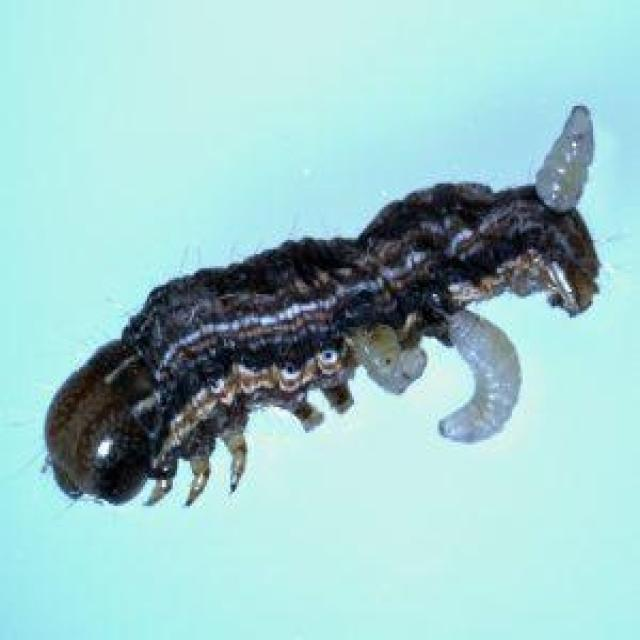army worm: (31, 102, 611, 507)
